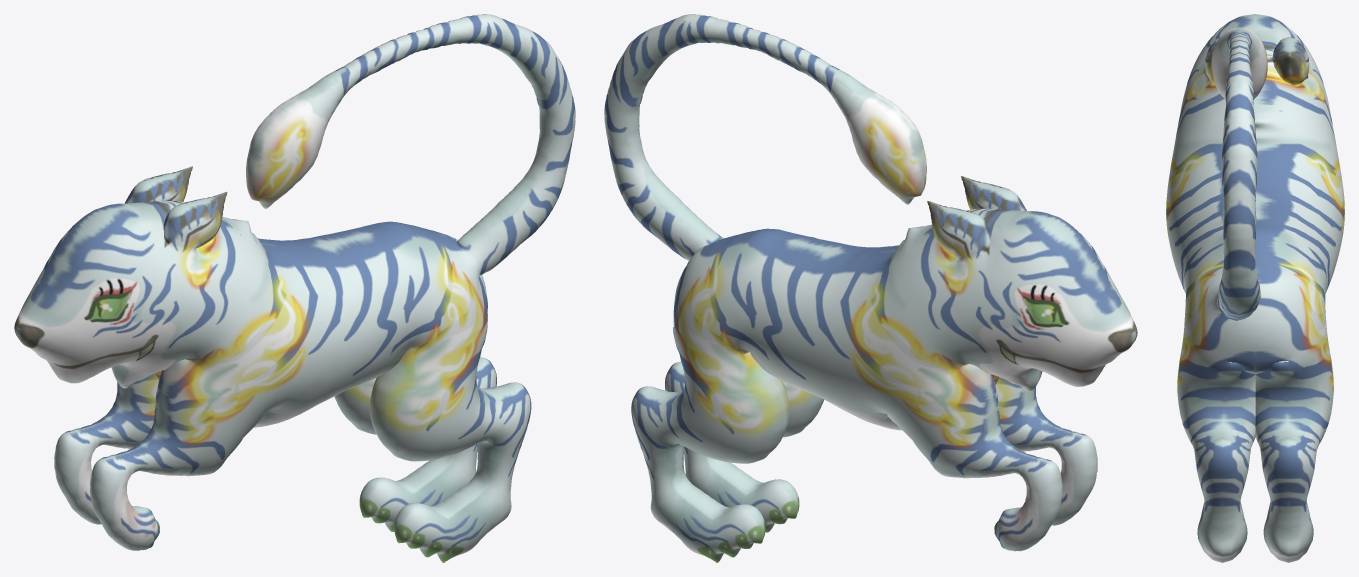
The model's file is 白虎test.glb.
The picture shows the model from 3 angles, left to right: view 1: azimuth 30°, elevation 25°; view 2: azimuth 150°, elevation 25°; view 3: azimuth 270°, elevation 25°; orthographic projection. The views are drawn at different scales.
Size of the model in its own units: 6.99 by 6.47 by 2.07.
1 material, 1 textured.
